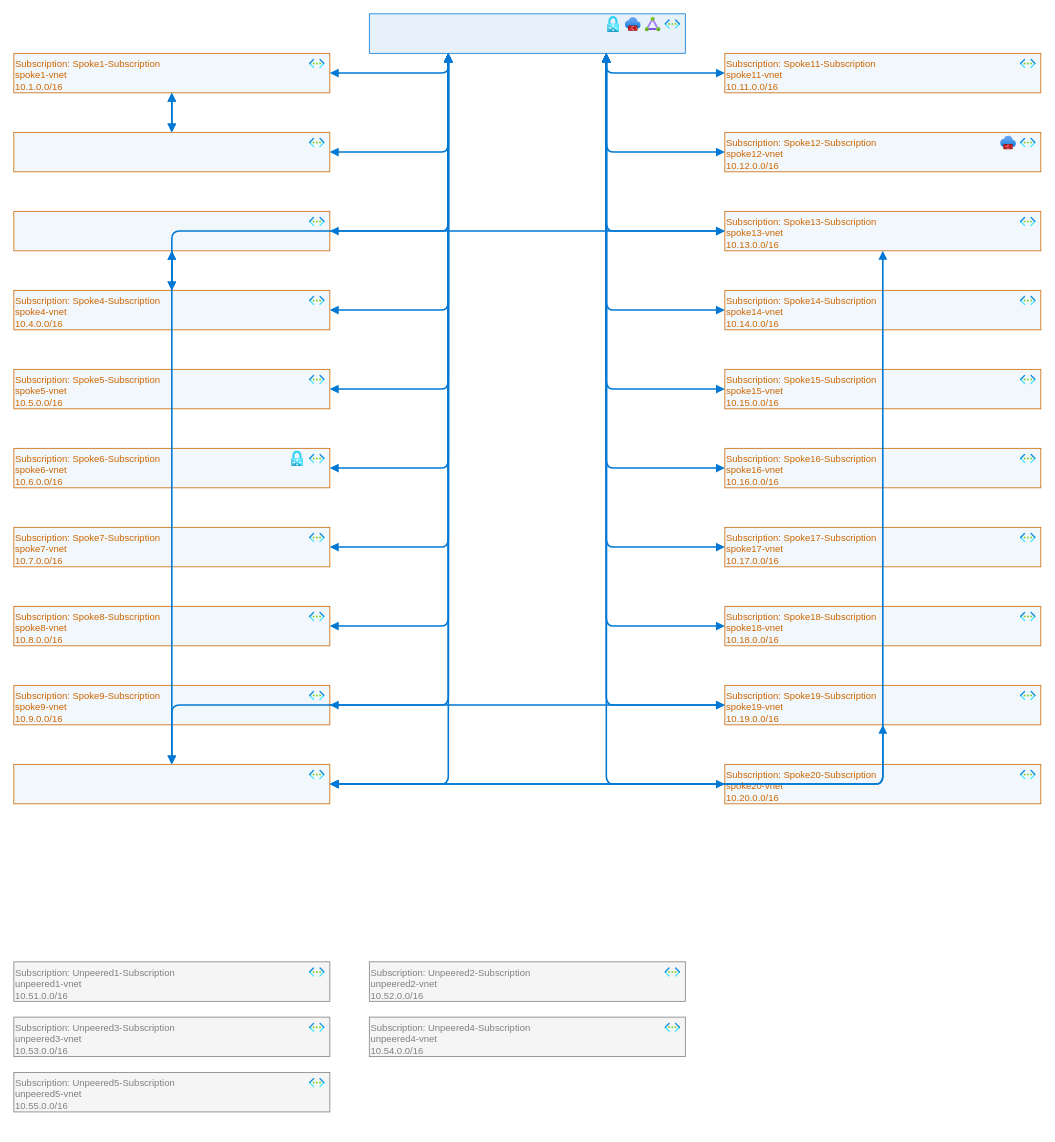
This 1055x1142 diagram has some shape labels left out. The box of each missing label's shape, as (x1, y1, x2, y2) in pixels:
Subscription: Hub-Subscription hub-vnet 10.0.0.0/16: (369, 13, 685, 53)
Subscription: Spoke10-Subscription spoke10-vnet 10.10.0.0/16: (13, 764, 330, 804)
Subscription: Spoke2-Subscription spoke2-vnet 10.2.0.0/16: (13, 132, 330, 172)
Subscription: Spoke3-Subscription spoke3-vnet 10.3.0.0/16: (13, 211, 330, 251)
